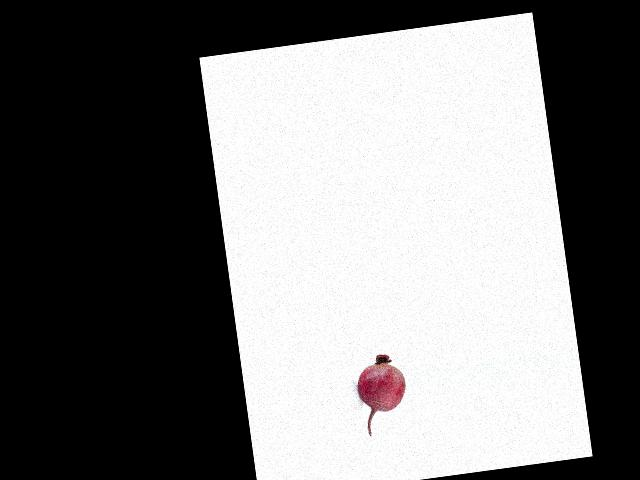beet: (353, 352, 411, 437)
